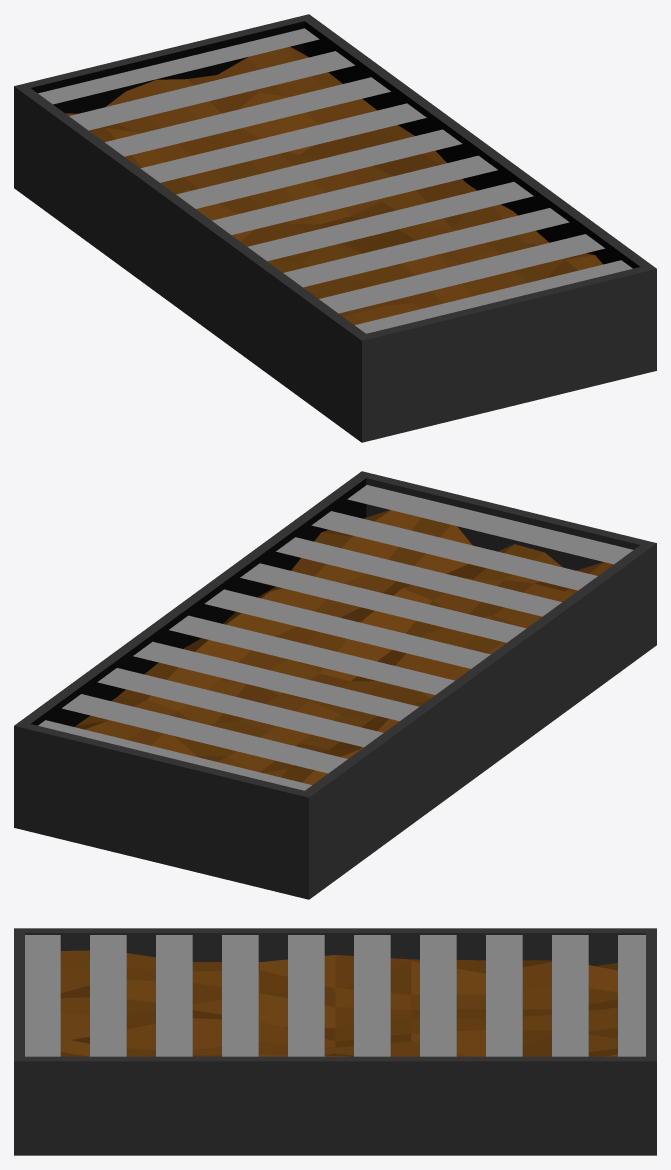
The model's file is RoadDirtyStock.fbx.
3 views of the same model, one above another, from view 1: azimuth 30°, elevation 25°; view 2: azimuth 150°, elevation 25°; view 3: azimuth 270°, elevation 25° (orthographic). The views are drawn at different scales.
Parts seen in each view (by area): view 1: Plane; view 2: Plane; view 3: Plane.
Boxes of the visible parts, left/top/right/bottom form: Plane: left=14, top=14, right=656, bottom=442; Plane: left=14, top=471, right=656, bottom=899; Plane: left=14, top=928, right=656, bottom=1155.
Size of the model in its own units: 200 by 66.07 by 408.
1 material, 1 textured.
